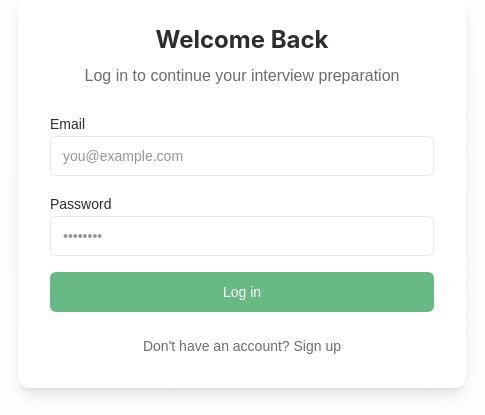
Login Page › disables submit button while loading
This screenshot has width=485, height=415.
Type "test@example.com" into the field labelled "Email".
click(242, 156); type("test@example.com")  # box [50, 136, 434, 176]
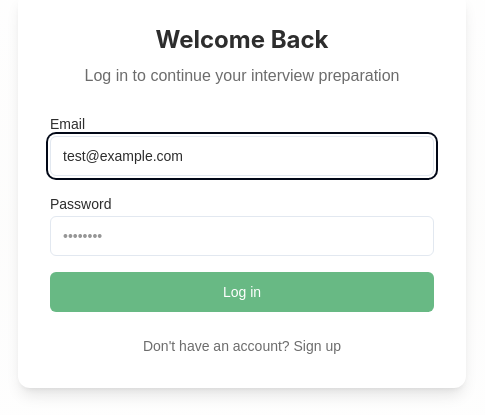
Type "password123" into the password field labelled "Password".
click(242, 236); type("password123")  # box [50, 216, 434, 256]
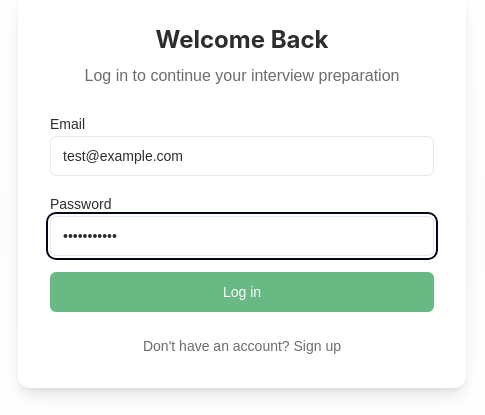
Click the button "Log in".
click(242, 292)  # box [50, 272, 434, 312]
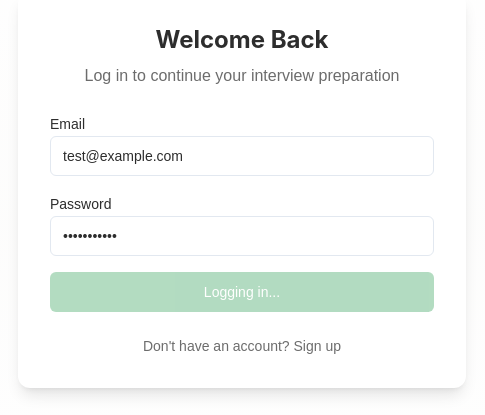
Expected: the button named "log in" is disabled, [50, 272, 434, 312]
